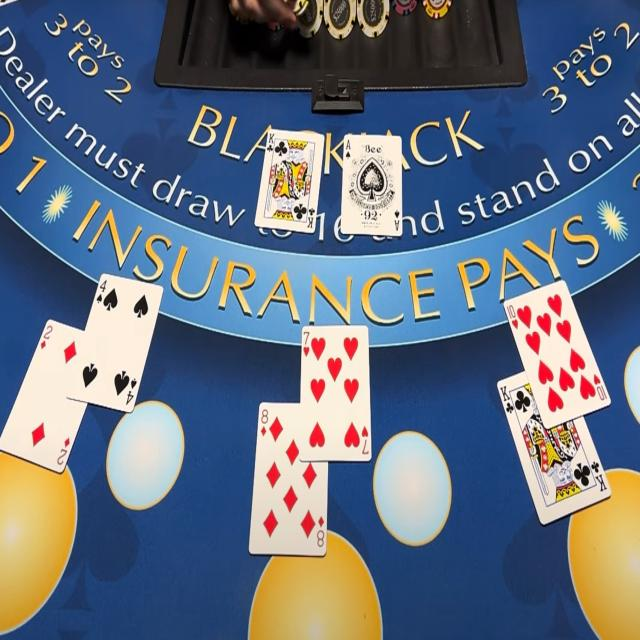10: (506, 304, 516, 320)
2: (43, 322, 53, 341)
4: (99, 275, 108, 294)
7: (303, 330, 310, 346)
8: (261, 408, 269, 424)
A: (345, 138, 352, 151)
K: (499, 384, 511, 402), (268, 132, 274, 144)
